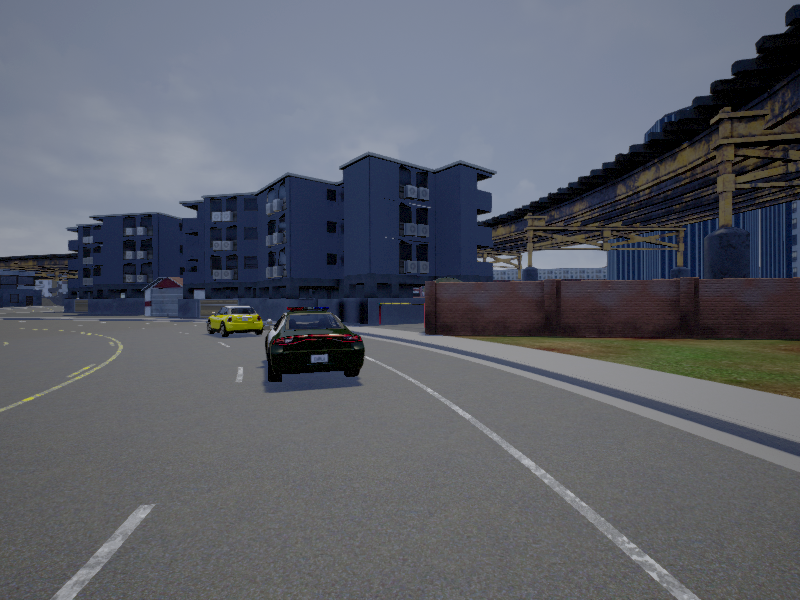Benign: (263, 308, 364, 384), (207, 304, 264, 339)
